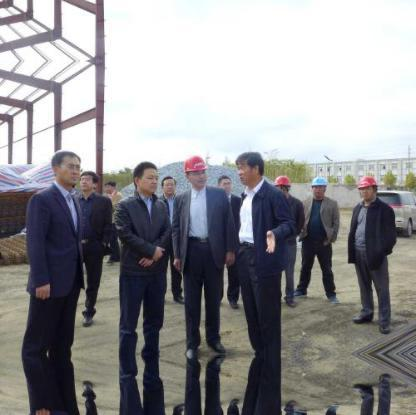helmet: (182, 154, 209, 172), (353, 175, 381, 192), (311, 175, 327, 188), (276, 176, 291, 188)
